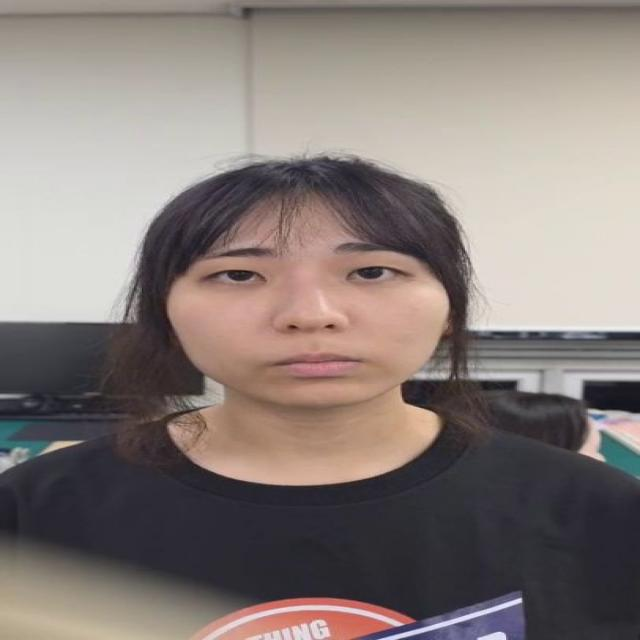eyes: (205, 261, 414, 292)
face: (164, 159, 454, 405)
iris_center: (348, 264, 391, 284), (229, 267, 248, 281)
